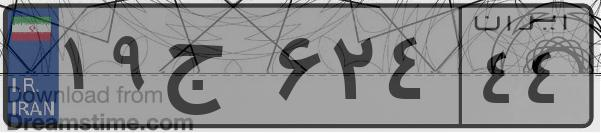1: (57, 26, 110, 100)
2: (330, 28, 385, 110)
4: (385, 28, 445, 110), (475, 38, 525, 113), (525, 38, 570, 115)
6: (270, 28, 330, 110)
9: (110, 28, 158, 98)
ج: (158, 20, 270, 120)
